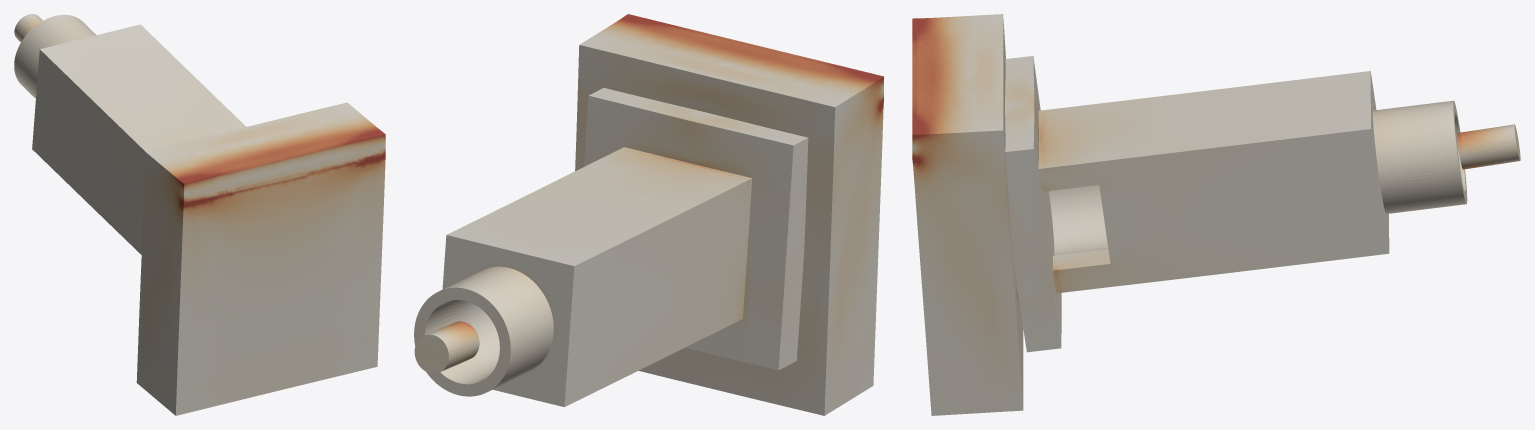
The model's file is pilot_nom_Fy_vm.glb.
3 views of the same model, side by side, from view 1: azimuth 30°, elevation 25°; view 2: azimuth 150°, elevation 25°; view 3: azimuth 270°, elevation 25° (orthographic). The views are drawn at different scales.
Parts seen in each view (by area): view 1: geometry_0; view 2: geometry_0; view 3: geometry_0.
Part boxes in pixels (x1,y1,x2,y2): geometry_0: (14, 14, 385, 415); geometry_0: (414, 14, 883, 415); geometry_0: (912, 14, 1520, 415).
Size of the model in its own units: 120 by 137 by 265.
